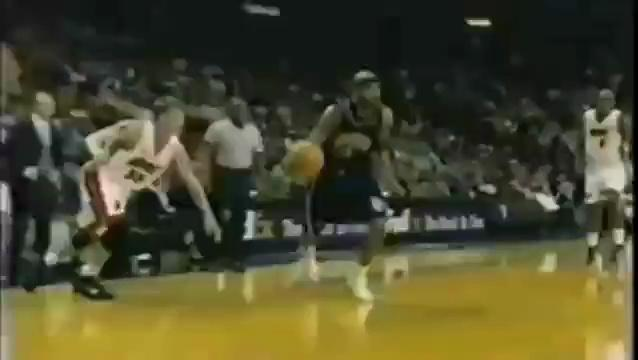Ball: (287, 141, 324, 177)
Person: (69, 95, 220, 302), (302, 70, 393, 297), (576, 87, 638, 271)
Referee: (204, 96, 270, 275)
